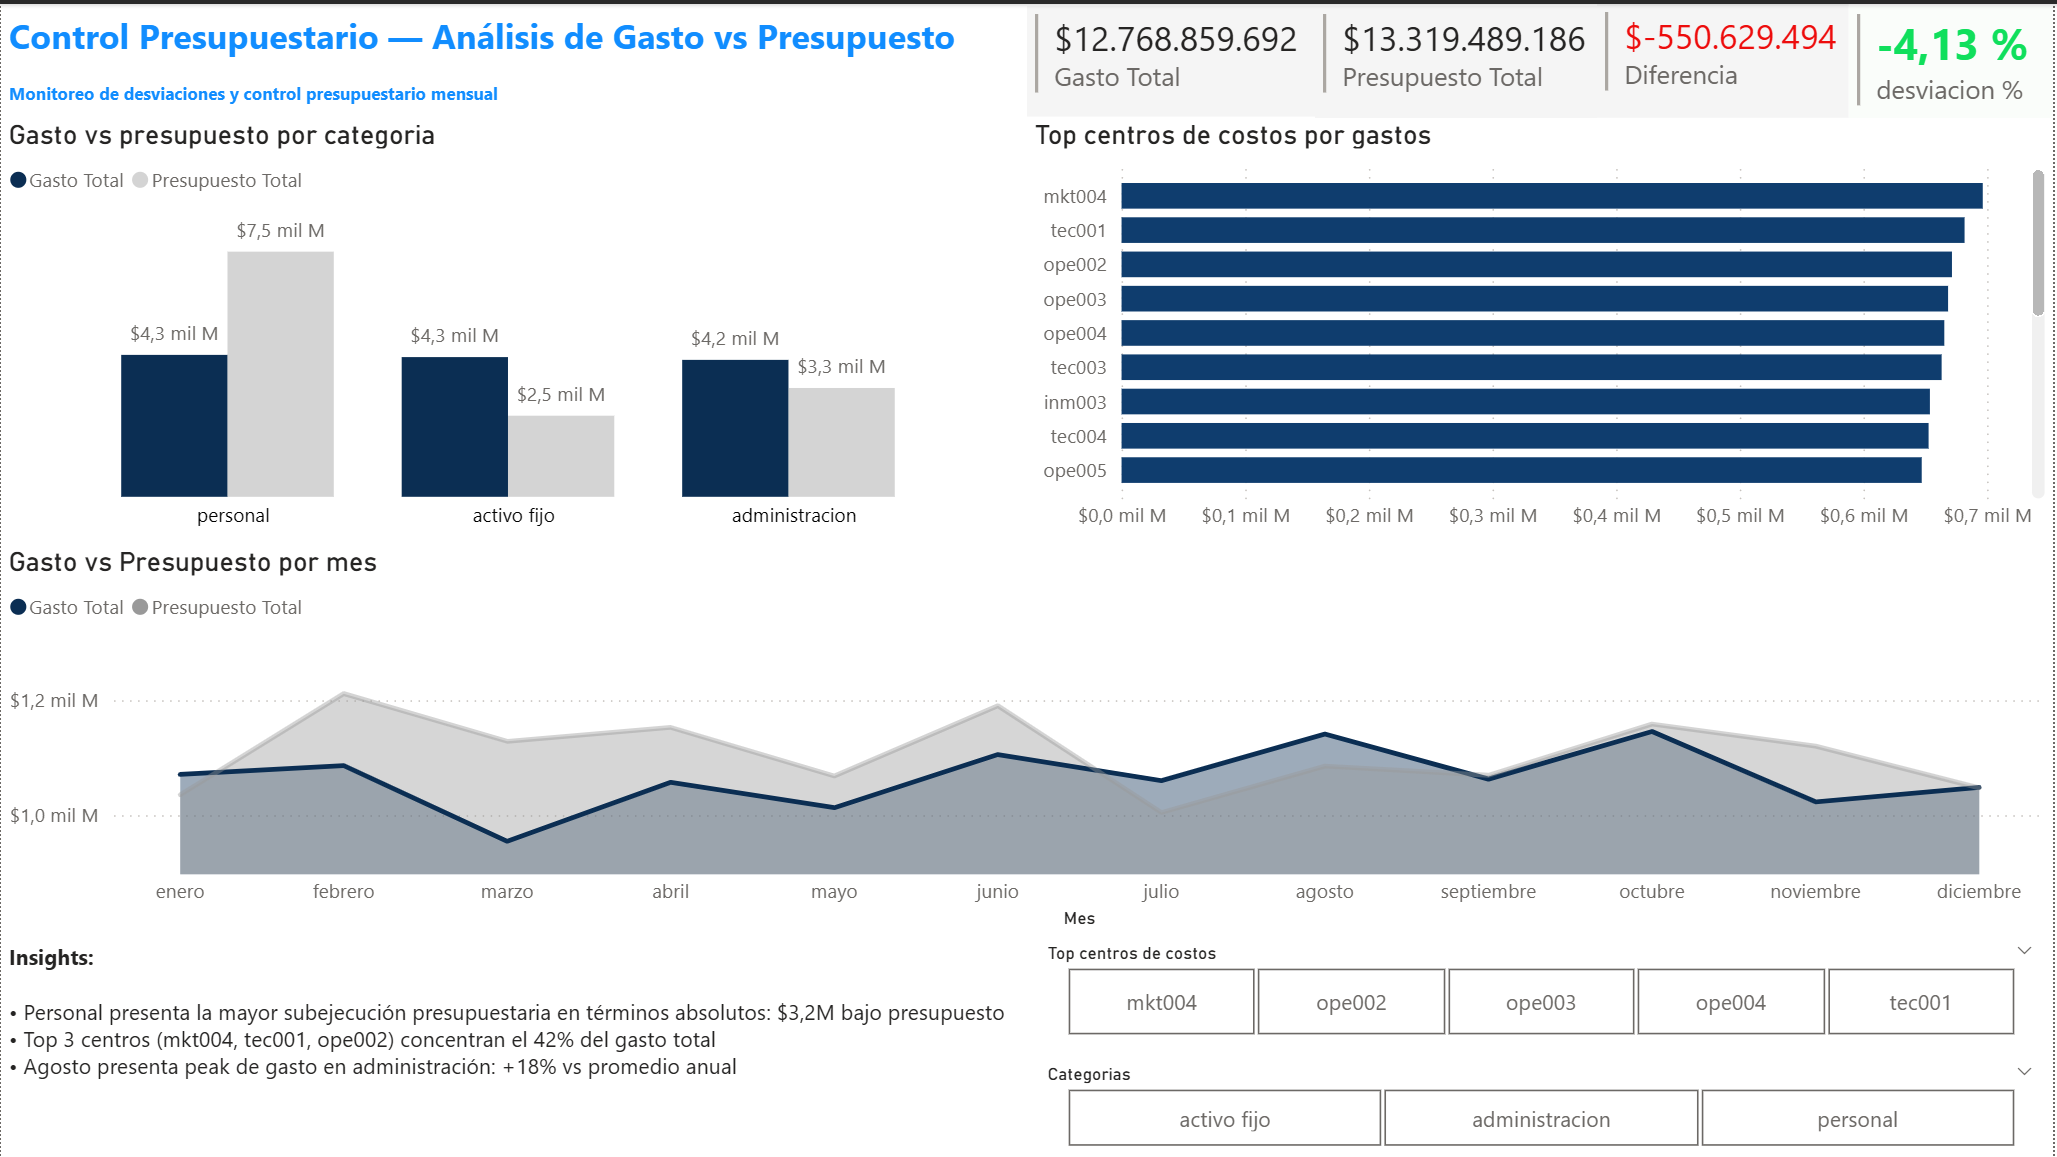

What the dashboard file says about the page in this screenshot:
{"tool":"powerbi","page":{"name":"Gastos vs presupuesto","canvas":[1280,720],"ordinal":0},"visuals":[{"type":"multiRowCard","fields":{"Values":["Gastos.Gasto Total"]},"box":[640,1.3,180,68.7],"z":0},{"type":"multiRowCard","fields":{"Values":["Gastos.Presupuesto Total"]},"box":[820,1.3,176,70],"z":1000},{"type":"multiRowCard","fields":{"Values":["Gastos.Diferencia"]},"box":[996,0,157.1,71.3],"z":2000},{"type":"multiRowCard","fields":{"Values":["Gastos.% Variacion"]},"box":[1153,1.3,127,70],"z":3000},{"type":"clusteredColumnChart","title":"Gasto vs presupuesto por categoria","fields":{"Y":["Gastos.Gasto Total","Gastos.Presupuesto Total"],"Category":["Gastos.categoria_limpia"]},"box":[0,71.3,640,266.3],"z":4000},{"type":"barChart","title":"Top centros de costos por gastos","fields":{"Category":["Gastos.centro_costo"],"Y":["Gastos.Gasto Total"]},"box":[640,71.3,640,266.3],"z":5000},{"type":"lineChart","title":"Gasto vs Presupuesto por mes","fields":{"Category":["Gastos.Mes.Variación.Jerarquía de fechas.Año","Gastos.Mes.Variación.Jerarquía de fechas.Mes"],"Y":["Gastos.Gasto Total","Gastos.Presupuesto Total"]},"box":[0,337.7,1280,243.4],"z":6000},{"type":"slicer","fields":{"Values":["Gastos.categoria_limpia"]},"box":[640,656.4,640,63.5],"z":7000},{"type":"slicer","title":"Centro","fields":{"Values":["Gastos.centro_costo"]},"box":[640,581.1,640,69.4],"z":9000},{"type":"textbox","box":[0,0,640,41.2],"z":10000},{"type":"textbox","box":[0,581.1,640,138.7],"z":11000},{"type":"textbox","box":[0,41.2,640,30.1],"z":12000}]}

Visuals, with their boxes in screenshot pixels (x1, y1, x2, y2), scaled from the page's 1280x720 canvas onto the 2057x1157 screenshot:
multiRowCard - Gastos.Gasto Total: <bbox>1028, 2, 1318, 112</bbox>
multiRowCard - Gastos.Presupuesto Total: <bbox>1318, 2, 1601, 115</bbox>
multiRowCard - Gastos.Diferencia: <bbox>1601, 0, 1853, 115</bbox>
multiRowCard - Gastos.% Variacion: <bbox>1853, 2, 2056, 115</bbox>
"Gasto vs presupuesto por categoria" clusteredColumnChart: <bbox>0, 115, 1028, 543</bbox>
"Top centros de costos por gastos" barChart: <bbox>1028, 115, 2056, 543</bbox>
"Gasto vs Presupuesto por mes" lineChart: <bbox>0, 543, 2056, 934</bbox>
slicer - Gastos.categoria_limpia: <bbox>1028, 1055, 2056, 1156</bbox>
"Centro" slicer: <bbox>1028, 934, 2056, 1045</bbox>
textbox: <bbox>0, 0, 1028, 66</bbox>
textbox: <bbox>0, 934, 1028, 1156</bbox>
textbox: <bbox>0, 66, 1028, 115</bbox>
